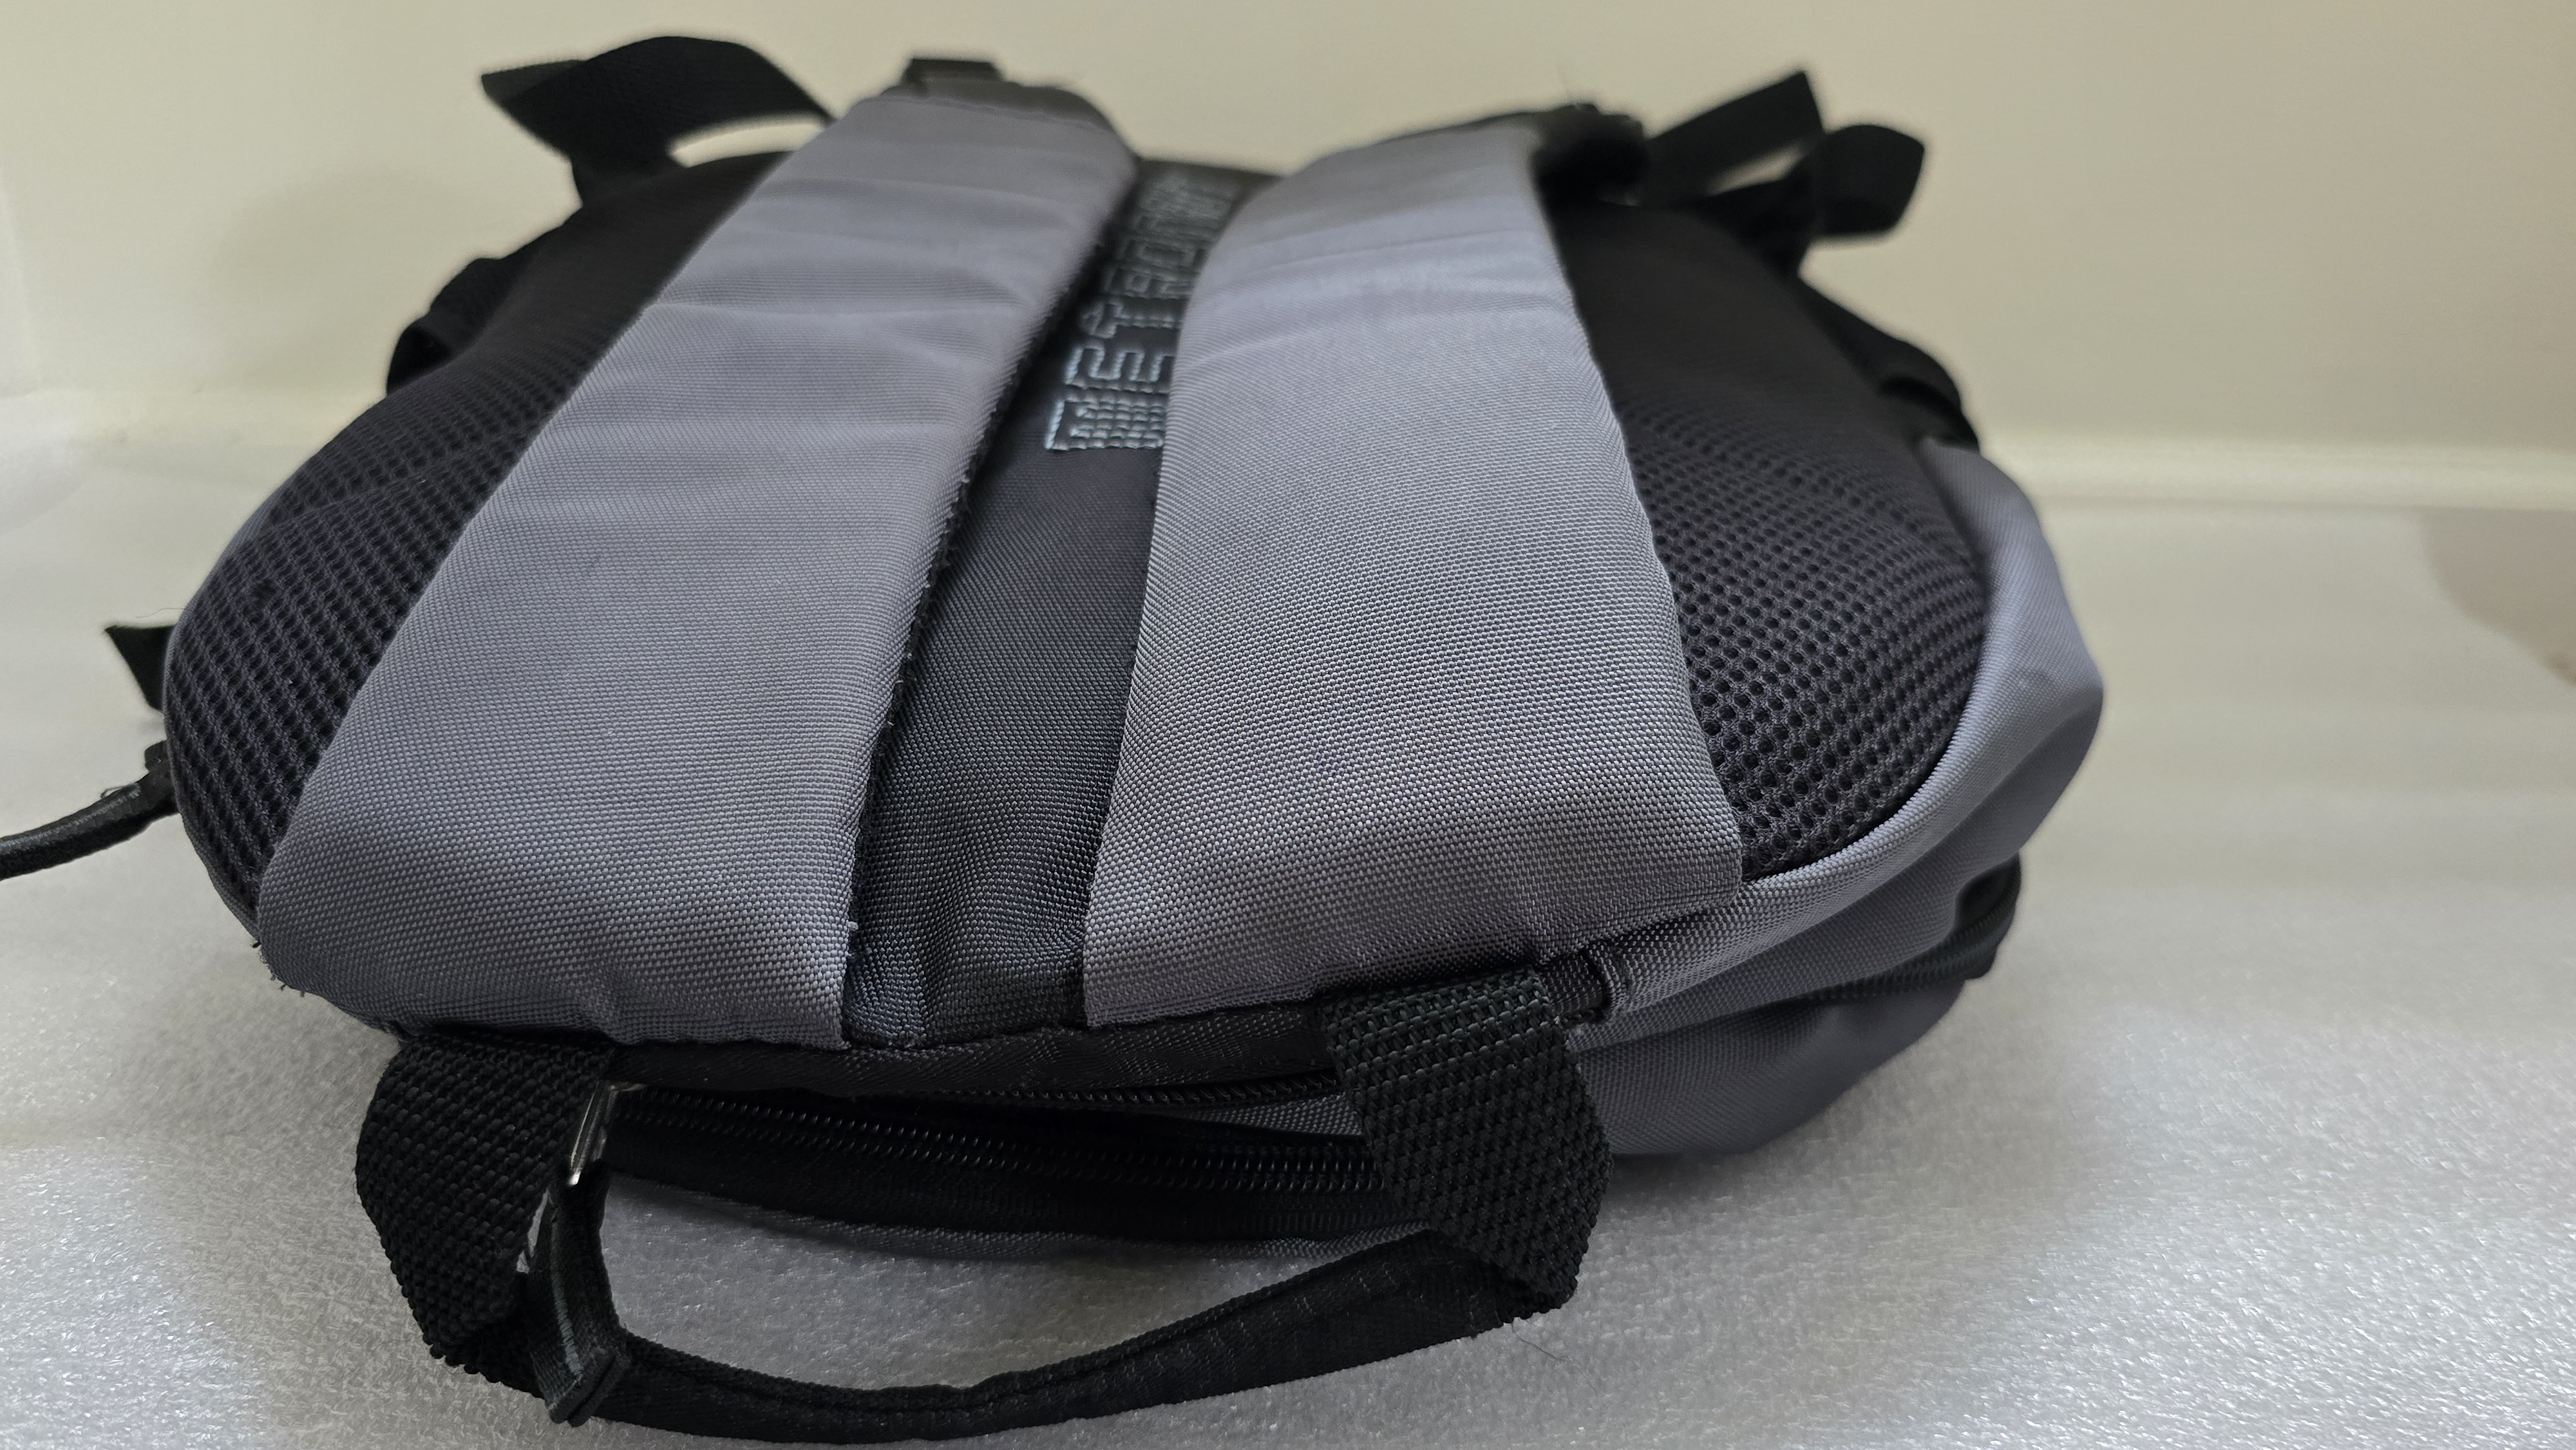bag: (0, 21, 2166, 1427)
